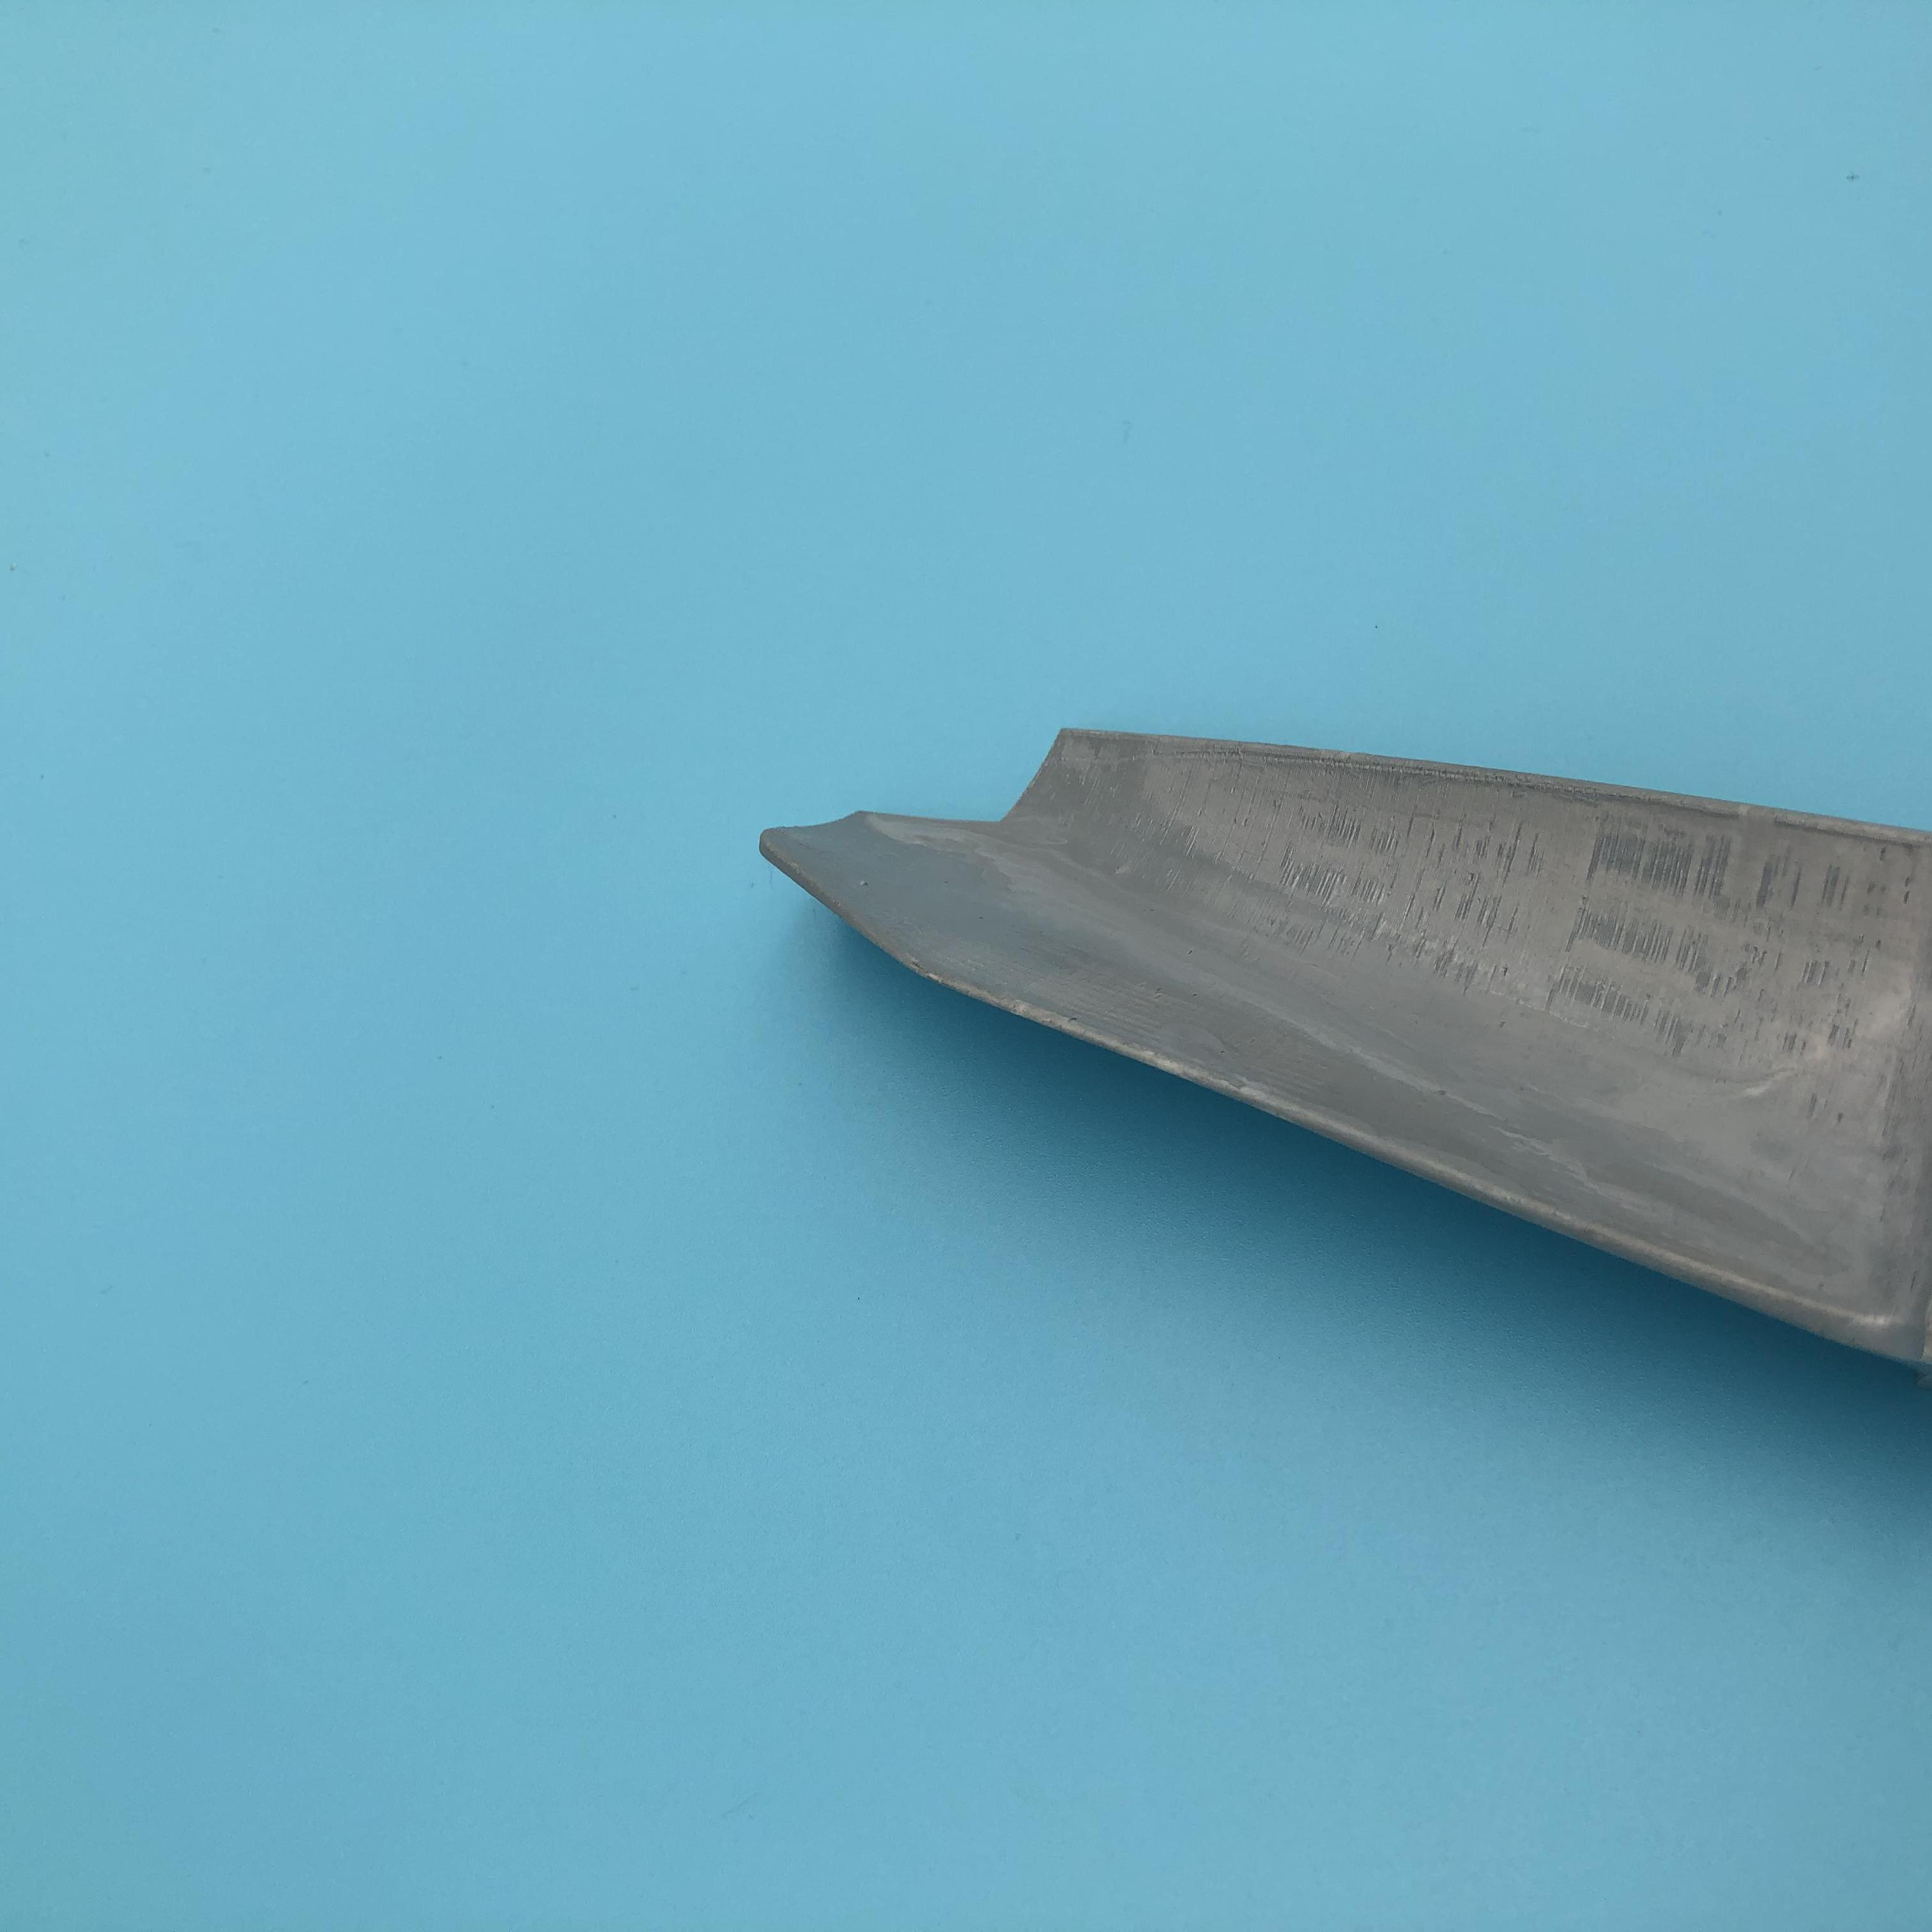fracture: (784, 741, 1148, 847)
